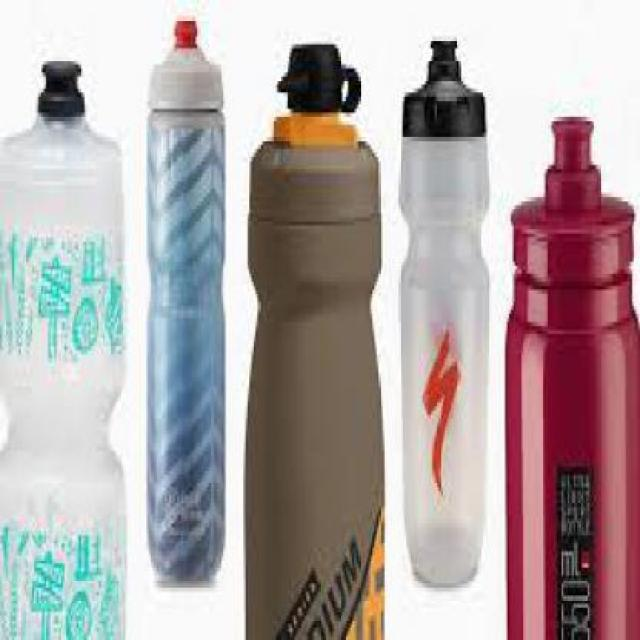Drinking: (237, 0, 395, 637), (492, 55, 638, 637), (136, 12, 238, 596)
